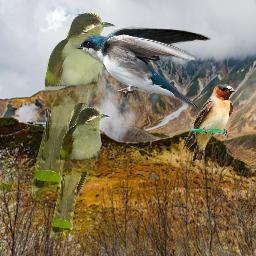Cuckoo: (31, 12, 116, 201), (50, 107, 110, 242)
Swallow: (75, 26, 211, 110), (181, 84, 235, 162)
